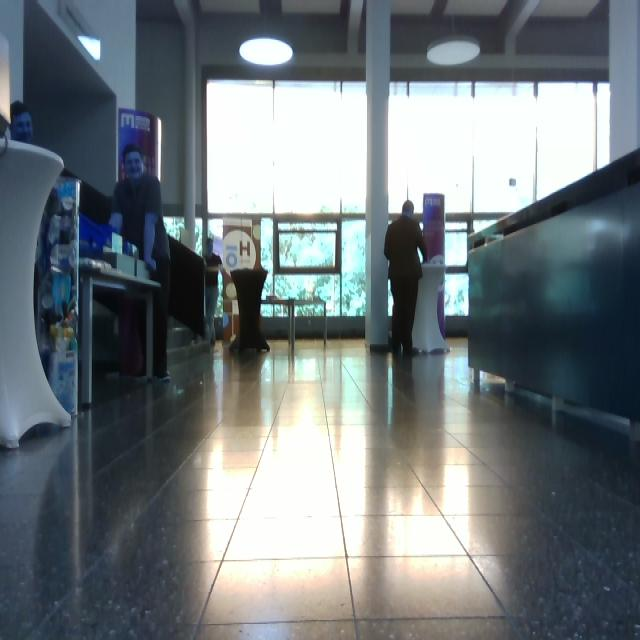door: (274, 216, 341, 320)
light bulb: (238, 1, 294, 68), (427, 1, 481, 66), (427, 36, 481, 66), (239, 37, 294, 66), (78, 34, 101, 61)
person: (109, 143, 172, 383), (384, 200, 428, 357)
pillar: (1, 137, 72, 449), (365, 1, 391, 352)
staircase: (466, 146, 640, 440)
tiled floor: (2, 333, 639, 638)
